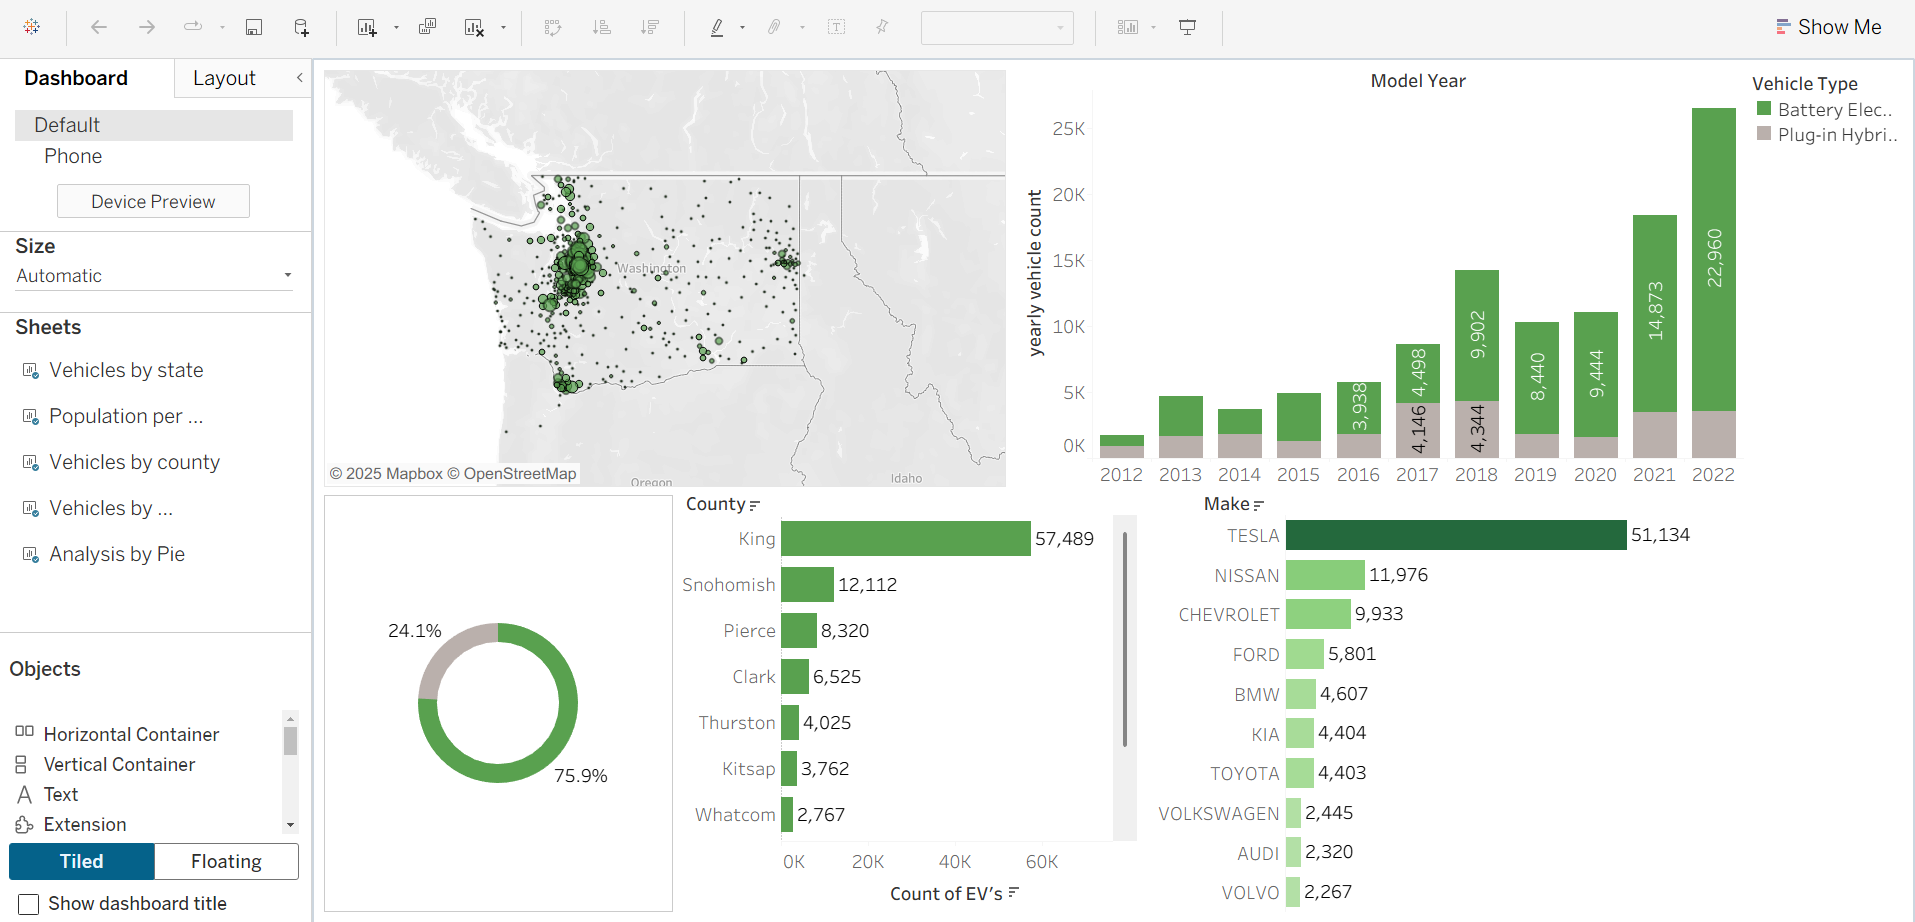

This screenshot's page, from the dashboard's own definition file:
{"tool":"tableau","page":{"name":"EV Dashboard","canvas":[1000,1000],"units":"permille","ordinal":0},"visuals":[{"type":"worksheet","title":"Vehicles by state","mark":"Automatic","box":[5,9.2,430.1,490.8]},{"type":"worksheet","title":"Population per year","mark":"Bar","rows":["DOL Vehicle ID"],"cols":["Model Year"],"box":[435.1,9.2,460.1,490.8]},{"type":"legend","title":"Population per year","param":"[federated.1p34zn217bnl5j1b9vlmg1ugr9xm].[none:Electric Vehicle Type:nk]","box":[895.3,9.2,99.8,97]},{"type":"worksheet","title":"Analysis by Pie","mark":"Pie","rows":["Calculation_2160039010865700868","Calculation_2160039010865700868"],"box":[5,500,222.6,490.8]},{"type":"worksheet","title":"Vehicles by county","mark":"Automatic","rows":["County"],"cols":["DOL Vehicle ID"],"box":[227.5,500,289.3,490.8]},{"type":"worksheet","title":"Vehicles by company","mark":"Automatic","rows":["Make"],"cols":["DOL Vehicle ID"],"box":[516.8,500,358.5,490.8]},{"type":"blank","box":[875.3,500,20,490.8]}]}

Visuals, with their boxes on the dashboard's canvas, which has no fixed pixel size, in thousandths of its width and height (x1, y1, x2, y2). These are canvas units, not pixel positions in the 1915x922 screenshot, which may show the page scaled, cropped or inside an application window:
"Vehicles by state" worksheet: left=5, top=9, right=435, bottom=500
"Population per year" worksheet (Bar marks): left=435, top=9, right=895, bottom=500
"Population per year" legend: left=895, top=9, right=995, bottom=106
"Analysis by Pie" worksheet (Pie marks): left=5, top=500, right=228, bottom=991
"Vehicles by county" worksheet: left=228, top=500, right=517, bottom=991
"Vehicles by company" worksheet: left=517, top=500, right=875, bottom=991
blank: left=875, top=500, right=895, bottom=991
